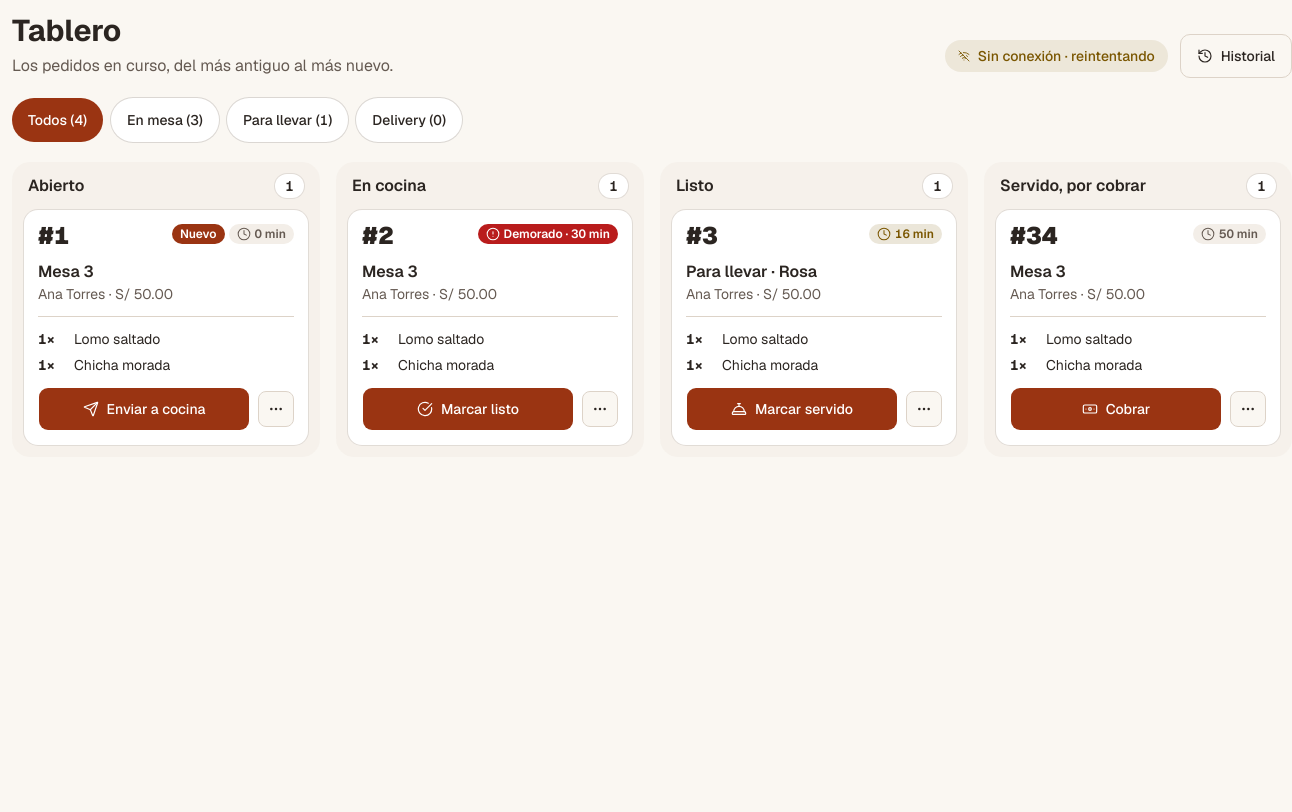
Test case: BoardView › el paso siguiente se da desde la tarjeta y se avisa
Expected: the element "En cocina" is shown, [336,162,644,456]
Click the button "Marcar listo" at (468, 408), box [362,386,574,430]
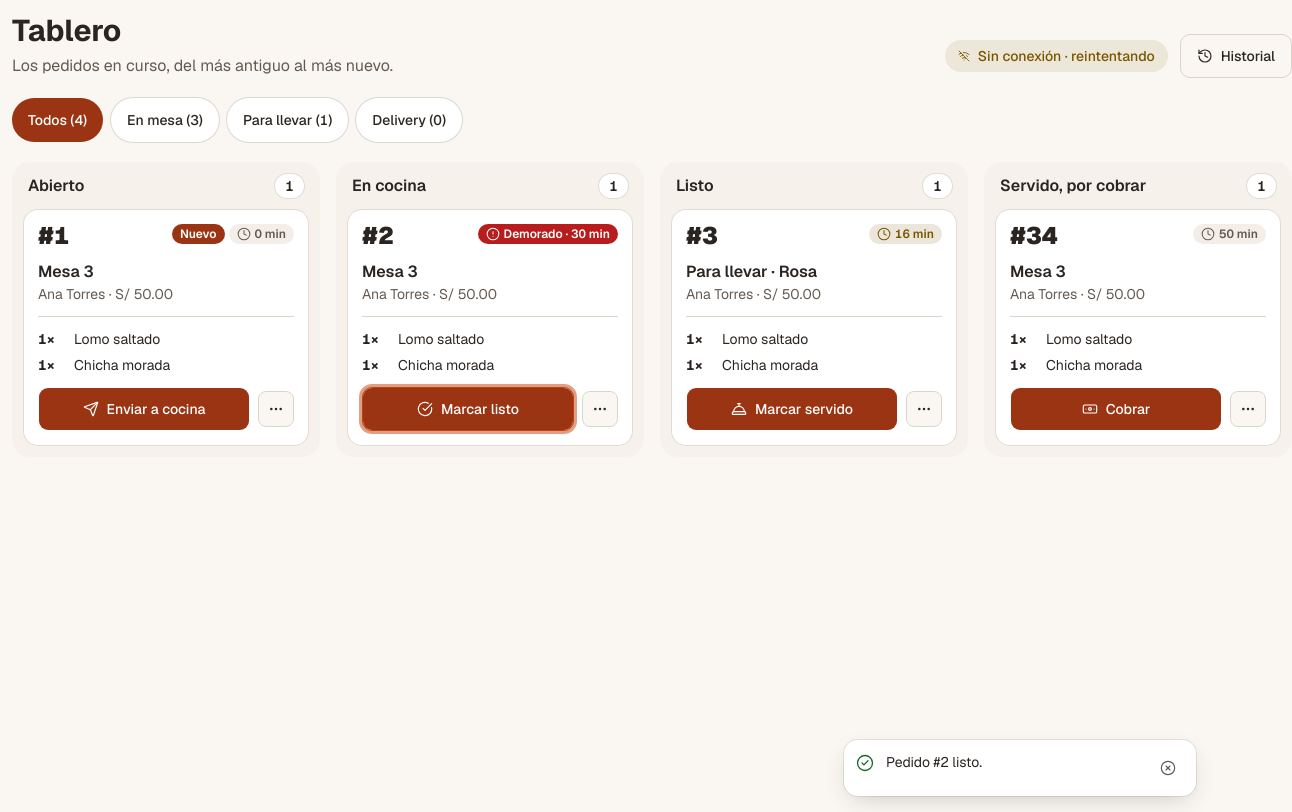
Now the text "Pedido #2 listo." is shown, box [886,753,982,771]
